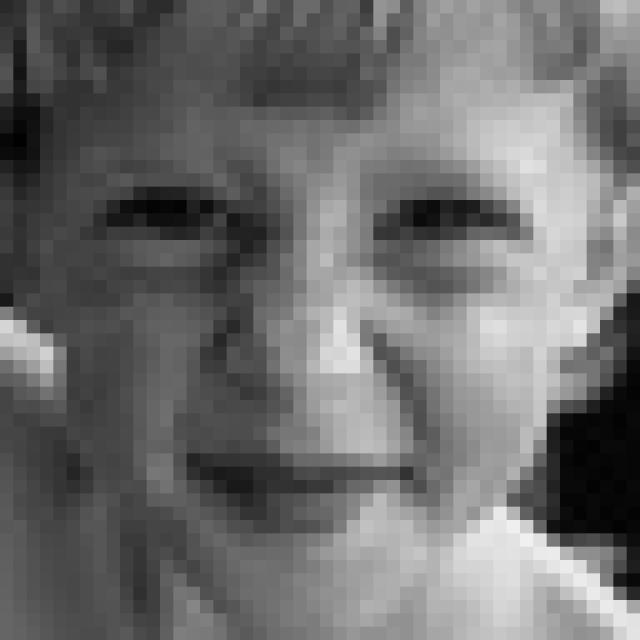disgust: (78, 147, 546, 550)
